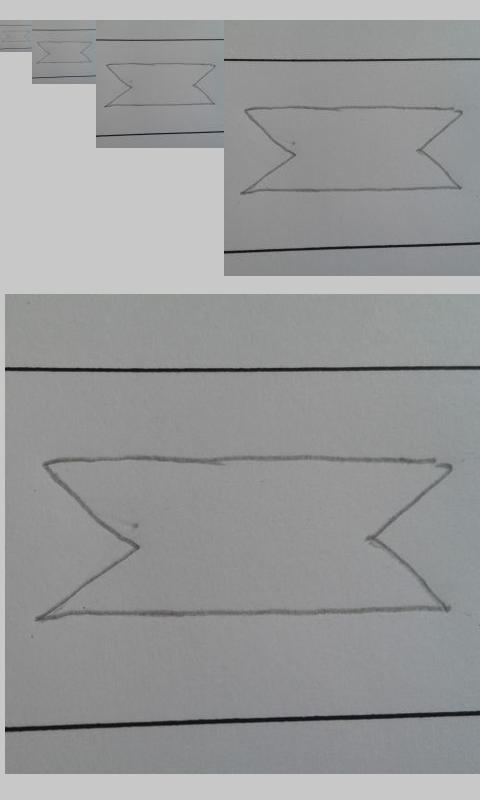edit_text: (39, 452, 454, 623), (241, 105, 464, 196), (103, 62, 217, 107), (36, 41, 93, 64), (2, 30, 29, 43)
